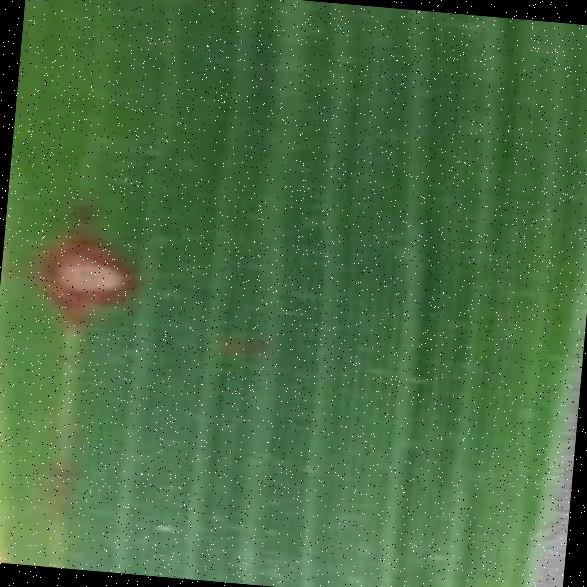Leaf_smut: (11, 182, 200, 380)
